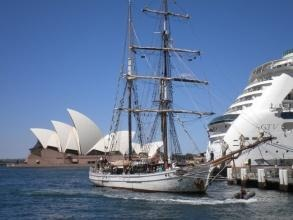fanchuan: (90, 5, 280, 195)
